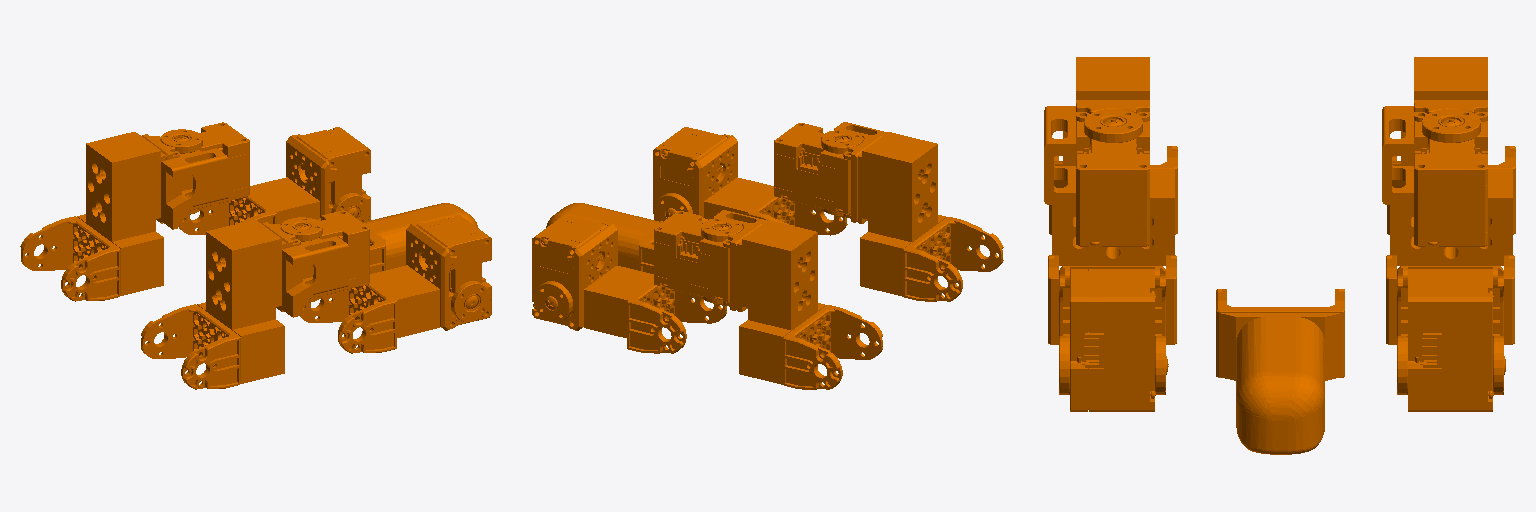
robot.urdf — onshape:
<robot name="onshape">
  <link name="palm_lower">
    <inertial>
      <origin xyz="0.0 0.0 0.0" rpy="0.0 -0.0 0.0"/>
      <mass value="0.237"/>
      <inertia ixx="0.000354094" ixy="-1.193e-06" ixz="-2.445e-06" iyy="0.000260915" iyz="-2.905e-06" izz="0.000529257"/>
    </inertial>
    <visual>
      <geometry>
        <mesh filename="../assets/leap/leap_hand/palm_lower.stl"/>
      </geometry>
      <origin xyz="-0.020095249652862544 0.025757756134899473 -0.034722403578460216" rpy="0.0 -0.0 0.0"/>
      <material name="palm_lower_material">
        <color rgba="0.6039215686274509 0.14901960784313725 0.14901960784313725 1.0"/>
      </material>
    </visual>
    <collision>
      <geometry>
        <mesh filename="../assets/leap/leap_hand/palm_lower.stl"/>
      </geometry>
      <origin xyz="-0.020095249652862544 0.025757756134899473 -0.034722403578460216" rpy="0.0 -0.0 0.0"/>
    </collision>
  </link>
  <link name="mcp_joint_long">
    <inertial>
      <origin xyz="0.0 0.0 0.0" rpy="0.0 -0.0 0.0"/>
      <mass value="0.044"/>
      <inertia ixx="1.1499e-05" ixy="3.049e-06" ixz="1.21e-07" iyy="7.796e-06" iyz="1.12e-07" izz="1.4759e-05"/>
    </inertial>
    <visual>
      <geometry>
        <mesh filename="custom_models/mcp_joint_long.stl"/>
      </geometry>
      <origin xyz="0.008406902261174496 0.0077662438597169954 0.014657354985032912" rpy="1.6375789613221e-15 -1.021047330249102e-30 1.7177968783327987e-31"/>
      <material name="mcp_joint_material">
        <color rgba="0.878 0.467 0.0 1.0"/>
      </material>
    </visual>
    <collision>
      <geometry>
        <mesh filename="custom_models/mcp_joint_long.stl"/>
      </geometry>
      <origin xyz="0.008406902261174496 0.0077662438597169954 0.014657354985032912" rpy="1.6375789613221e-15 -1.021047330249102e-30 1.7177968783327987e-31"/>
    </collision>
  </link>
  <link name="pip">
    <inertial>
      <origin xyz="0.0 0.0 0.0" rpy="0.0 -0.0 0.0"/>
      <mass value="0.032"/>
      <inertia ixx="4.798e-06" ixy="1.2e-08" ixz="4e-09" iyy="2.862e-06" iyz="1.1e-08" izz="4.234e-06"/>
    </inertial>
    <visual>
      <geometry>
        <mesh filename="../assets/leap/leap_hand/pip.stl"/>
      </geometry>
      <origin xyz="0.009643363092271328 0.0002999999999999895 0.0007840340104173765" rpy="-1.5707963267948966 -1.5707963267948963 0.0"/>
      <material name="pip_material">
        <color rgba="0.7490196078431373 0.7490196078431373 0.7490196078431373 1.0"/>
      </material>
    </visual>
    <collision>
      <geometry>
        <mesh filename="../assets/leap/leap_hand/pip.stl"/>
      </geometry>
      <origin xyz="0.009643363092271328 0.0002999999999999895 0.0007840340104173765" rpy="-1.5707963267948966 -1.5707963267948963 0.0"/>
    </collision>
  </link>
  <link name="dip_long">
    <inertial>
      <origin xyz="0.0 0.0 0.0" rpy="0.0 -0.0 0.0"/>
      <mass value="0.037"/>
      <inertia ixx="5.542e-06" ixy="-6.07e-07" ixz="-1.7e-08" iyy="5.727e-06" iyz="-2.3e-08" izz="6.682e-06"/>
    </inertial>
    <visual>
      <geometry>
        <mesh filename="custom_models/dip_long.stl"/>
      </geometry>
      <origin xyz="0.021133352895225003 -0.00843211914670488 0.00978508816209524" rpy="-3.141592653589793 4.507511124216441e-32 4.439548105392361e-32"/>
      <material name="dip_material">
        <color rgba="0.878 0.467 0.0 1.0"/>
      </material>
    </visual>
    <collision>
      <geometry>
        <mesh filename="custom_models/dip_long.stl"/>
      </geometry>
      <origin xyz="0.021133352895225003 -0.00843211914670488 0.00978508816209524" rpy="-3.141592653589793 4.507511124216441e-32 4.439548105392361e-32"/>
    </collision>
  </link>
  <link name="fingertip">
    <inertial>
      <origin xyz="0.0 0.0 0.0" rpy="0.0 -0.0 0.0"/>
      <mass value="0.016"/>
      <inertia ixx="3.368e-06" ixy="1.15e-07" ixz="0.0" iyy="1.556e-06" iyz="0.0" izz="2.863e-06"/>
    </inertial>
    <visual>
      <geometry>
        <mesh filename="../assets/leap/leap_hand/fingertip.stl"/>
      </geometry>
      <origin xyz="0.013286424108533503 -0.006114238386541987 0.014499999999999498" rpy="3.141592653589793 1.1993117970061735e-33 4.439548105392361e-32"/>
      <material name="fingertip_material">
        <color rgba="0.8666666666666667 0.8666666666666667 0.050980392156862744 1.0"/>
      </material>
    </visual>
    <collision>
      <geometry>
        <mesh filename="../assets/leap/leap_hand/fingertip.stl"/>
      </geometry>
      <origin xyz="0.013286424108533503 -0.006114238386541987 0.014499999999999498" rpy="3.141592653589793 1.1993117970061735e-33 4.439548105392361e-32"/>
    </collision>
  </link>
  <link name="pip_4">
    <inertial>
      <origin xyz="0.0 0.0 0.0" rpy="0.0 -0.0 0.0"/>
      <mass value="0.032"/>
      <inertia ixx="4.798e-06" ixy="1.2e-08" ixz="4e-09" iyy="2.862e-06" iyz="1.1e-08" izz="4.234e-06"/>
    </inertial>
    <visual>
      <geometry>
        <mesh filename="../assets/leap/leap_hand/pip.stl"/>
      </geometry>
      <origin xyz="-0.005356636907728671 0.0002999999999999999 0.0007840340104173782" rpy="-1.5707963267948966 -1.5707963267948963 0.0"/>
      <material name="pip_material">
        <color rgba="0.7490196078431373 0.7490196078431373 0.7490196078431373 1.0"/>
      </material>
    </visual>
    <collision>
      <geometry>
        <mesh filename="../assets/leap/leap_hand/pip.stl"/>
      </geometry>
      <origin xyz="-0.005356636907728671 0.0002999999999999999 0.0007840340104173782" rpy="-1.5707963267948966 -1.5707963267948963 0.0"/>
    </collision>
  </link>
  <link name="thumb_pip">
    <inertial>
      <origin xyz="0.0 0.0 0.0" rpy="0.0 -0.0 0.0"/>
      <mass value="0.003"/>
      <inertia ixx="5.93e-07" ixy="0.0" ixz="0.0" iyy="5.49e-07" iyz="0.0" izz="2.24e-07"/>
    </inertial>
    <visual>
      <geometry>
        <mesh filename="../assets/leap/leap_hand/thumb_pip.stl"/>
      </geometry>
      <origin xyz="0.011961920770611187 -5.30825383648903e-16 -0.0158526489566642" rpy="1.5707963267948966 1.6050198443300153e-46 -3.9204996250525193e-59"/>
      <material name="thumb_pip_material">
        <color rgba="0.8666666666666667 0.8666666666666667 0.050980392156862744 1.0"/>
      </material>
    </visual>
    <collision>
      <geometry>
        <mesh filename="../assets/leap/leap_hand/thumb_pip.stl"/>
      </geometry>
      <origin xyz="0.011961920770611187 -5.30825383648903e-16 -0.0158526489566642" rpy="1.5707963267948966 1.6050198443300153e-46 -3.9204996250525193e-59"/>
    </collision>
  </link>
  <link name="thumb_dip">
    <inertial>
      <origin xyz="0.0 0.0 0.0" rpy="0.0 -0.0 0.0"/>
      <mass value="0.038"/>
      <inertia ixx="8.474e-06" ixy="2.41e-07" ixz="2.6e-08" iyy="3.841e-06" iyz="2.5e-08" izz="7.679e-06"/>
    </inertial>
    <visual>
      <geometry>
        <mesh filename="../assets/leap/leap_hand/thumb_dip.stl"/>
      </geometry>
      <origin xyz="0.043968715707239175 0.0579529529737092 -0.008628676449369476" rpy="1.94289029309401e-16 3.27515792264422e-15 1.112375852965736e-46"/>
      <material name="thumb_dip_material">
        <color rgba="0.8666666666666667 0.8666666666666667 0.050980392156862744 1.0"/>
      </material>
    </visual>
    <collision>
      <geometry>
        <mesh filename="../assets/leap/leap_hand/thumb_dip.stl"/>
      </geometry>
      <origin xyz="0.043968715707239175 0.0579529529737092 -0.008628676449369476" rpy="1.94289029309401e-16 3.27515792264422e-15 1.112375852965736e-46"/>
    </collision>
  </link>
  <link name="thumb_fingertip">
    <inertial>
      <origin xyz="0.0 0.0 0.0" rpy="0.0 -0.0 0.0"/>
      <mass value="0.049"/>
      <inertia ixx="2.0372e-05" ixy="-4.89e-07" ixz="-3e-08" iyy="4.336e-06" iyz="-9.7e-08" izz="1.9845e-05"/>
    </inertial>
    <visual>
      <geometry>
        <mesh filename="../assets/leap/leap_hand/thumb_fingertip.stl"/>
      </geometry>
      <origin xyz="0.06255953846266739 0.07845968291139699 0.048992911807332215" rpy="4.379057701015637e-47 -3.33066907387547e-16 1.2042408677791935e-46"/>
      <material name="thumb_fingertip_material">
        <color rgba="0.6039215686274509 0.14901960784313725 0.14901960784313725 1.0"/>
      </material>
    </visual>
    <collision>
      <geometry>
        <mesh filename="../assets/leap/leap_hand/thumb_fingertip.stl"/>
      </geometry>
      <origin xyz="0.06255953846266739 0.07845968291139699 0.048992911807332215" rpy="4.379057701015637e-47 -3.33066907387547e-16 1.2042408677791935e-46"/>
    </collision>
  </link>
  <link name="mcp_joint_2">
    <inertial>
      <origin xyz="0.0 0.0 0.0" rpy="0.0 -0.0 0.0"/>
      <mass value="0.044"/>
      <inertia ixx="1.1499e-05" ixy="3.049e-06" ixz="1.21e-07" iyy="7.796e-06" iyz="1.12e-07" izz="1.4759e-05"/>
    </inertial>
    <visual>
      <geometry>
        <mesh filename="../assets/leap/leap_hand/mcp_joint.stl"/>
      </geometry>
      <origin xyz="0.008406902261174496 0.0077662438597169954 0.014657354985032914" rpy="1.6375789613221e-15 -1.0076465469034e-30 2.1209300131419907e-61"/>
      <material name="mcp_joint_material">
        <color rgba="0.8666666666666667 0.8666666666666667 0.050980392156862744 1.0"/>
      </material>
    </visual>
    <collision>
      <geometry>
        <mesh filename="../assets/leap/leap_hand/mcp_joint.stl"/>
      </geometry>
      <origin xyz="0.008406902261174496 0.0077662438597169954 0.014657354985032914" rpy="1.6375789613221e-15 -1.0076465469034e-30 2.1209300131419907e-61"/>
    </collision>
  </link>
  <link name="pip_2">
    <inertial>
      <origin xyz="0.0 0.0 0.0" rpy="0.0 -0.0 0.0"/>
      <mass value="0.032"/>
      <inertia ixx="4.798e-06" ixy="1.2e-08" ixz="4e-09" iyy="2.862e-06" iyz="1.1e-08" izz="4.234e-06"/>
    </inertial>
    <visual>
      <geometry>
        <mesh filename="../assets/leap/leap_hand/pip.stl"/>
      </geometry>
      <origin xyz="0.009643363092271328 0.0002999999999999947 0.0007840340104173765" rpy="-1.5707963267948966 -1.5707963267948963 0.0"/>
      <material name="pip_material">
        <color rgba="0.7490196078431373 0.7490196078431373 0.7490196078431373 1.0"/>
      </material>
    </visual>
    <collision>
      <geometry>
        <mesh filename="../assets/leap/leap_hand/pip.stl"/>
      </geometry>
      <origin xyz="0.009643363092271328 0.0002999999999999947 0.0007840340104173765" rpy="-1.5707963267948966 -1.5707963267948963 0.0"/>
    </collision>
  </link>
  <link name="dip_2">
    <inertial>
      <origin xyz="0.0 0.0 0.0" rpy="0.0 -0.0 0.0"/>
      <mass value="0.037"/>
      <inertia ixx="5.542e-06" ixy="-6.07e-07" ixz="-1.7e-08" iyy="5.727e-06" iyz="-2.3e-08" izz="6.682e-06"/>
    </inertial>
    <visual>
      <geometry>
        <mesh filename="../assets/leap/leap_hand/dip.stl"/>
      </geometry>
      <origin xyz="0.021133352895225003 -0.008432119146704865 0.009785088162095237" rpy="-3.141592653589793 2.1146933785271956e-32 1.4408183216511869e-31"/>
      <material name="dip_material">
        <color rgba="0.8666666666666667 0.8666666666666667 0.050980392156862744 1.0"/>
      </material>
    </visual>
    <collision>
      <geometry>
        <mesh filename="../assets/leap/leap_hand/dip.stl"/>
      </geometry>
      <origin xyz="0.021133352895225003 -0.008432119146704865 0.009785088162095237" rpy="-3.141592653589793 2.1146933785271956e-32 1.4408183216511869e-31"/>
    </collision>
  </link>
  <link name="fingertip_2_long">
    <inertial>
      <origin xyz="0.0 0.0 0.0" rpy="0.0 -0.0 0.0"/>
      <mass value="0.016"/>
      <inertia ixx="3.368e-06" ixy="1.15e-07" ixz="0.0" iyy="1.556e-06" iyz="0.0" izz="2.863e-06"/>
    </inertial>
    <visual>
      <geometry>
        <mesh filename="custom_models/fingertip_long.stl"/>
      </geometry>
      <origin xyz="0.013286424108533496 -0.006114238386542001 0.014499999999999496" rpy="3.141592653589793 -4.317959788283594e-33 1.4408183216511869e-31"/>
      <material name="fingertip_material">
        <color rgba="0.878 0.467 0.0 1.0"/>
      </material>
    </visual>
    <collision>
      <geometry>
        <mesh filename="custom_models/fingertip_long.stl"/>
      </geometry>
      <origin xyz="0.013286424108533496 -0.006114238386542001 0.014499999999999496" rpy="3.141592653589793 -4.317959788283594e-33 1.4408183216511869e-31"/>
    </collision>
  </link>
  <link name="mcp_joint_3_long">
    <inertial>
      <origin xyz="0.0 0.0 0.0" rpy="0.0 -0.0 0.0"/>
      <mass value="0.044"/>
      <inertia ixx="1.1499e-05" ixy="3.049e-06" ixz="1.21e-07" iyy="7.796e-06" iyz="1.12e-07" izz="1.4759e-05"/>
    </inertial>
    <visual>
      <geometry>
        <mesh filename="custom_models/mcp_joint_long.stl"/>
      </geometry>
      <origin xyz="0.0084069022611745 0.007766243859716996 0.014657354985032914" rpy="1.6375789613221e-15 -1.0059504988632627e-30 5.729641584552035e-32"/>
      <material name="mcp_joint_material">
        <color rgba="0.878 0.467 0.0 1.0"/>
      </material>
    </visual>
    <collision>
      <geometry>
        <mesh filename="custom_models/mcp_joint_long.stl"/>
      </geometry>
      <origin xyz="0.0084069022611745 0.007766243859716996 0.014657354985032914" rpy="1.6375789613221e-15 -1.0059504988632627e-30 5.729641584552035e-32"/>
    </collision>
  </link>
  <link name="pip_3">
    <inertial>
      <origin xyz="0.0 0.0 0.0" rpy="0.0 -0.0 0.0"/>
      <mass value="0.032"/>
      <inertia ixx="4.798e-06" ixy="1.2e-08" ixz="4e-09" iyy="2.862e-06" iyz="1.1e-08" izz="4.234e-06"/>
    </inertial>
    <visual>
      <geometry>
        <mesh filename="../assets/leap/leap_hand/pip.stl"/>
      </geometry>
      <origin xyz="0.009643363092271331 0.00029999999999998084 0.0007840340104173765" rpy="-1.5707963267948966 -1.5707963267948963 0.0"/>
      <material name="pip_material">
        <color rgba="0.7490196078431373 0.7490196078431373 0.7490196078431373 1.0"/>
      </material>
    </visual>
    <collision>
      <geometry>
        <mesh filename="../assets/leap/leap_hand/pip.stl"/>
      </geometry>
      <origin xyz="0.009643363092271331 0.00029999999999998084 0.0007840340104173765" rpy="-1.5707963267948966 -1.5707963267948963 0.0"/>
    </collision>
  </link>
  <link name="dip_3_long">
    <inertial>
      <origin xyz="0.0 0.0 0.0" rpy="0.0 -0.0 0.0"/>
      <mass value="0.037"/>
      <inertia ixx="5.542e-06" ixy="-6.07e-07" ixz="-1.7e-08" iyy="5.727e-06" iyz="-2.3e-08" izz="6.682e-06"/>
    </inertial>
    <visual>
      <geometry>
        <mesh filename="custom_models/dip_long.stl"/>
      </geometry>
      <origin xyz="0.021133352895225006 -0.008432119146704865 0.009785088162095237" rpy="-3.141592653589793 -1.4095651113919093e-33 1.5565411607615035e-32"/>
      <material name="dip_material">
        <color rgba="0.878 0.467 0.0 1.0"/>
      </material>
    </visual>
    <collision>
      <geometry>
        <mesh filename="custom_models/dip_long.stl"/>
      </geometry>
      <origin xyz="0.021133352895225006 -0.008432119146704865 0.009785088162095237" rpy="-3.141592653589793 -1.4095651113919093e-33 1.5565411607615035e-32"/>
    </collision>
  </link>
  <link name="fingertip_3">
    <inertial>
      <origin xyz="0.0 0.0 0.0" rpy="0.0 -0.0 0.0"/>
      <mass value="0.016"/>
      <inertia ixx="3.368e-06" ixy="1.15e-07" ixz="0.0" iyy="1.556e-06" iyz="0.0" izz="2.863e-06"/>
    </inertial>
    <visual>
      <geometry>
        <mesh filename="../assets/leap/leap_hand/fingertip.stl"/>
      </geometry>
      <origin xyz="0.013286424108533501 -0.006114238386541987 0.0144999999999995" rpy="3.141592653589793 8.61707169505754e-33 1.5565411607615035e-32"/>
      <material name="fingertip_material">
        <color rgba="0.8666666666666667 0.8666666666666667 0.050980392156862744 1.0"/>
      </material>
    </visual>
    <collision>
      <geometry>
        <mesh filename="../assets/leap/leap_hand/fingertip.stl"/>
      </geometry>
      <origin xyz="0.013286424108533501 -0.006114238386541987 0.0144999999999995" rpy="3.141592653589793 8.61707169505754e-33 1.5565411607615035e-32"/>
    </collision>
  </link>
  <joint name="1" type="revolute">
    <parent link="palm_lower"/>
    <child link="mcp_joint_long"/>
    <origin xyz="-0.007095249652862546 0.023057756134899472 -0.01872240357846022" rpy="1.570796326794895 1.5707963267948946 0.0"/>
    <axis xyz="0.0 0.0 -1.0"/>
    <limit effort="0.95" velocity="8.48" lower="-0.314" upper="2.23"/>
  </joint>
  <joint name="0" type="revolute">
    <parent link="mcp_joint_long"/>
    <child link="pip"/>
    <origin xyz="-0.012200000000000007713 0.053099999999999994982 0.014500000000000000736" rpy="-1.5707963267948966 -1.0065212660796337e-15 1.5707963267948943"/>
    <axis xyz="0.0 0.0 -1.0"/>
    <limit effort="0.95" velocity="8.48" lower="-1.047" upper="1.047"/>
  </joint>
  <joint name="2" type="revolute">
    <parent link="pip"/>
    <child link="dip_long"/>
    <origin xyz="0.014999999999999968 0.014299999999999905 -0.012999999999999824" rpy="1.570796326794896 -1.5707963267948963 0.0"/>
    <axis xyz="0.0 0.0 -1.0"/>
    <limit effort="0.95" velocity="8.48" lower="-0.506" upper="1.885"/>
  </joint>
  <joint name="3" type="revolute">
    <parent link="dip_long"/>
    <child link="fingertip"/>
    <origin xyz="-4.0880582495572692636e-09 -0.051100004210367367397 0.00020000000000007858714" rpy="4.5935029425113685e-17 -2.8730071914463795e-16 4.439548105392361e-32"/>
    <axis xyz="0.0 0.0 -1.0"/>
    <limit effort="0.95" velocity="8.48" lower="-0.366" upper="2.042"/>
  </joint>
  <joint name="12" type="revolute">
    <parent link="palm_lower"/>
    <child link="pip_4"/>
    <origin xyz="-0.06939524965286253 -0.0012422438651005258 -0.021622403578460216" rpy="-8.238176646493942e-17 1.5707963267948957 0.0"/>
    <axis xyz="0.0 0.0 -1.0"/>
    <limit effort="0.95" velocity="8.48" lower="-0.349" upper="2.094"/>
  </joint>
  <joint name="13" type="revolute">
    <parent link="pip_4"/>
    <child link="thumb_pip"/>
    <origin xyz="-2.7755575615628914e-17 0.014300000000000005 -0.013000000000000012" rpy="1.570796326794896 -1.5707963267948963 0.0"/>
    <axis xyz="0.0 0.0 -1.0"/>
    <limit effort="0.95" velocity="8.48" lower="-0.47" upper="2.443"/>
  </joint>
  <joint name="14" type="revolute">
    <parent link="thumb_pip"/>
    <child link="thumb_dip"/>
    <origin xyz="0.0 0.014499999999999966 -0.017000000000000053" rpy="-1.5707963267948966 1.6050198443300131e-46 -1.9721522630516625e-31"/>
    <axis xyz="0.0 0.0 -1.0"/>
    <limit effort="0.95" velocity="8.48" lower="-1.2" upper="1.9"/>
  </joint>
  <joint name="15" type="revolute">
    <parent link="thumb_dip"/>
    <child link="thumb_fingertip"/>
    <origin xyz="-1.249000902703301e-16 0.046599999999999864 0.0001999999999999771" rpy="1.506395849149178e-44 5.423418723393526e-31 3.141592653589793"/>
    <axis xyz="0.0 0.0 -1.0"/>
    <limit effort="0.95" velocity="8.48" lower="-1.34" upper="1.88"/>
  </joint>
  <joint name="5" type="revolute">
    <parent link="palm_lower"/>
    <child link="mcp_joint_2"/>
    <origin xyz="-0.007095249652862546 -0.022392243865100525 -0.01872240357846022" rpy="1.570796326794895 1.5707963267948946 0.0"/>
    <axis xyz="0.0 0.0 -1.0"/>
    <limit effort="0.95" velocity="8.48" lower="-0.314" upper="2.23"/>
  </joint>
  <joint name="4" type="revolute">
    <parent link="mcp_joint_2"/>
    <child link="pip_2"/>
    <origin xyz="-0.012200000000000008 0.038099999999999995 0.0145" rpy="-1.5707963267948966 -1.0065212660796337e-15 1.5707963267948943"/>
    <axis xyz="0.0 0.0 -1.0"/>
    <limit effort="0.95" velocity="8.48" lower="-1.047" upper="1.047"/>
  </joint>
  <joint name="6" type="revolute">
    <parent link="pip_2"/>
    <child link="dip_2"/>
    <origin xyz="0.014999999999999968 0.014299999999999905 -0.012999999999999824" rpy="1.570796326794896 -1.5707963267948963 0.0"/>
    <axis xyz="0.0 0.0 -1.0"/>
    <limit effort="0.95" velocity="8.48" lower="-0.506" upper="1.885"/>
  </joint>
  <joint name="7" type="revolute">
    <parent link="dip_2"/>
    <child link="fingertip_2_long"/>
    <origin xyz="-4.088058249557269e-09 -0.03610000421036737 0.0002000000000000786" rpy="4.5935029425113685e-17 -2.8730071914463795e-16 4.439548105392361e-32"/>
    <axis xyz="0.0 0.0 -1.0"/>
    <limit effort="0.95" velocity="8.48" lower="-0.366" upper="2.042"/>
  </joint>
  <joint name="9" type="revolute">
    <parent link="palm_lower"/>
    <child link="mcp_joint_3_long"/>
    <origin xyz="-0.007095249652862546 -0.06784224386510052 -0.01872240357846022" rpy="1.570796326794895 1.5707963267948946 0.0"/>
    <axis xyz="0.0 0.0 -1.0"/>
    <limit effort="0.95" velocity="8.48" lower="-0.314" upper="2.23"/>
  </joint>
  <joint name="8" type="revolute">
    <parent link="mcp_joint_3_long"/>
    <child link="pip_3"/>
    <origin xyz="-0.012200000000000007713 0.053099999999999994982 0.014500000000000000736" rpy="-1.5707963267948966 -1.0065212660796337e-15 1.5707963267948943"/>
    <axis xyz="0.0 0.0 -1.0"/>
    <limit effort="0.95" velocity="8.48" lower="-1.047" upper="1.047"/>
  </joint>
  <joint name="10" type="revolute">
    <parent link="pip_3"/>
    <child link="dip_3_long"/>
    <origin xyz="0.014999999999999968 0.014299999999999905 -0.012999999999999824" rpy="1.570796326794896 -1.5707963267948963 0.0"/>
    <axis xyz="0.0 0.0 -1.0"/>
    <limit effort="0.95" velocity="8.48" lower="-0.506" upper="1.885"/>
  </joint>
  <joint name="11" type="revolute">
    <parent link="dip_3_long"/>
    <child link="fingertip_3"/>
    <origin xyz="-4.0880582495572692636e-09 -0.051100004210367367397 0.00020000000000007858714" rpy="4.5935029425113685e-17 -2.8730071914463795e-16 4.439548105392361e-32"/>
    <axis xyz="0.0 0.0 -1.0"/>
    <limit effort="0.95" velocity="8.48" lower="-0.366" upper="2.042"/>
  </joint>
</robot>

--- Render facts (derived) ---
Views: 3 orthographic renders of the robot side by side, from view 1: azimuth 30°, elevation 25°; view 2: azimuth 150°, elevation 25°; view 3: azimuth 270°, elevation 25°.
Robot: onshape — 17 links, 16 joints (16 revolute); root link palm_lower; default pose: all joints at 0.
Visible links, largest first — view 1: mcp_joint_3_long, mcp_joint_long, dip_3_long, dip_long, fingertip_2_long; view 2: mcp_joint_long, mcp_joint_3_long, dip_long, dip_3_long, fingertip_2_long; view 3: mcp_joint_long, mcp_joint_3_long, dip_long, dip_3_long, fingertip_2_long.
Boxes of the visible links, <box> form: mcp_joint_3_long: <box>141,210,369,389</box>; mcp_joint_long: <box>20,122,249,301</box>; dip_3_long: <box>299,215,491,353</box>; dip_long: <box>179,127,370,234</box>; fingertip_2_long: <box>318,203,478,273</box>; mcp_joint_long: <box>654,210,882,389</box>; mcp_joint_3_long: <box>774,122,1003,301</box>; dip_long: <box>532,215,726,353</box>; dip_3_long: <box>653,127,847,235</box>; fingertip_2_long: <box>546,203,707,273</box>; mcp_joint_long: <box>1382,57,1515,265</box>; mcp_joint_3_long: <box>1044,57,1177,265</box>; dip_long: <box>1386,255,1514,411</box>; dip_3_long: <box>1048,255,1176,411</box>; fingertip_2_long: <box>1216,289,1344,454</box>.
Bounding box of the posed robot: 0.1616 × 0.1267 × 0.0549 m (x, y, z).
5 mesh visuals loaded from 11 distinct referenced files (3 binary STL); not drawn: 12 (reference not matched to a file when rendering).